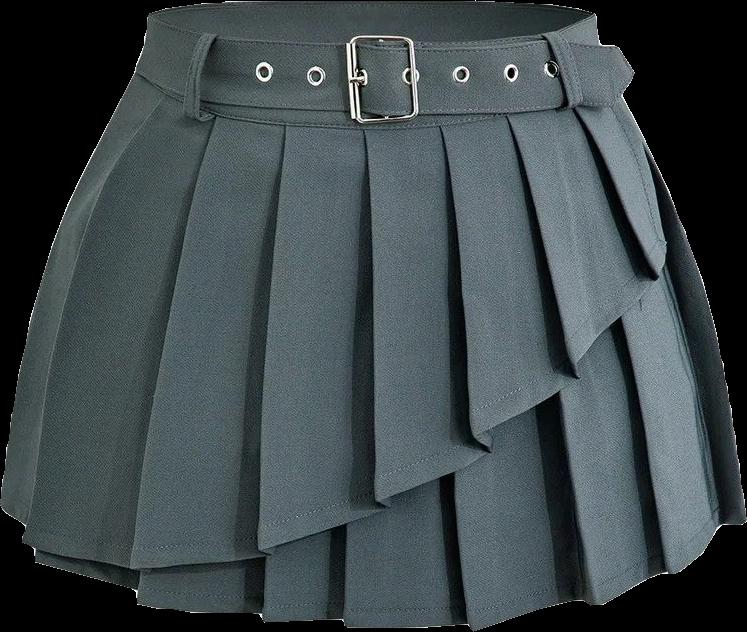Hemline: (0, 142, 665, 576), (34, 518, 746, 631)
Waistline: (133, 67, 617, 132), (146, 9, 595, 50)
